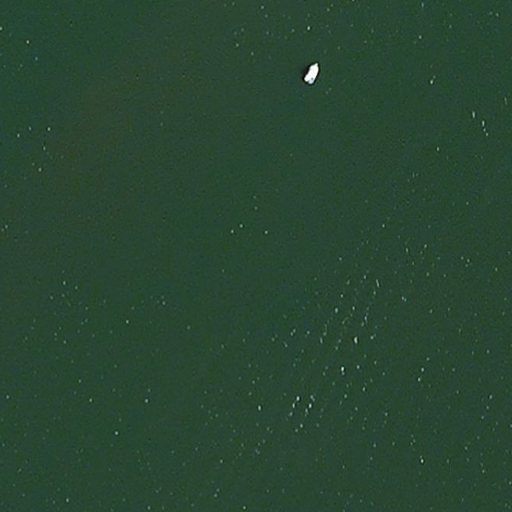ship: (300, 59, 323, 89)
